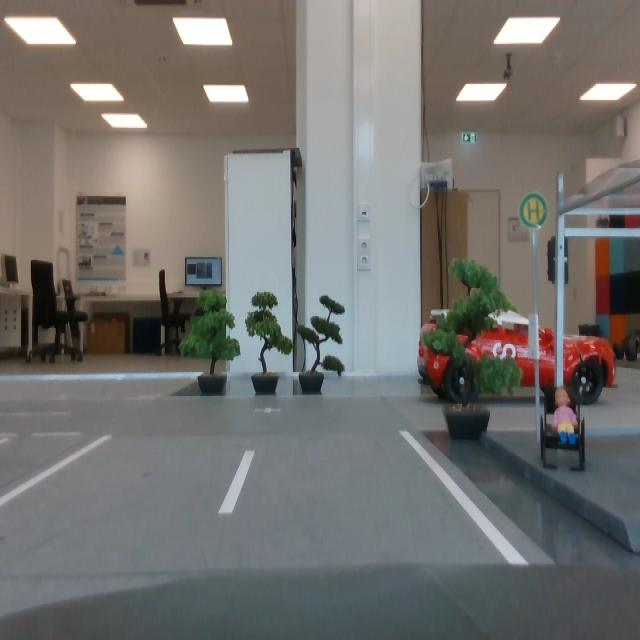car: (417, 308, 617, 406), (615, 329, 640, 362)
person: (551, 388, 580, 446)
potted plant: (420, 258, 524, 440), (178, 288, 241, 394), (245, 291, 293, 395), (297, 295, 346, 395)
traffic light: (548, 236, 570, 287)
